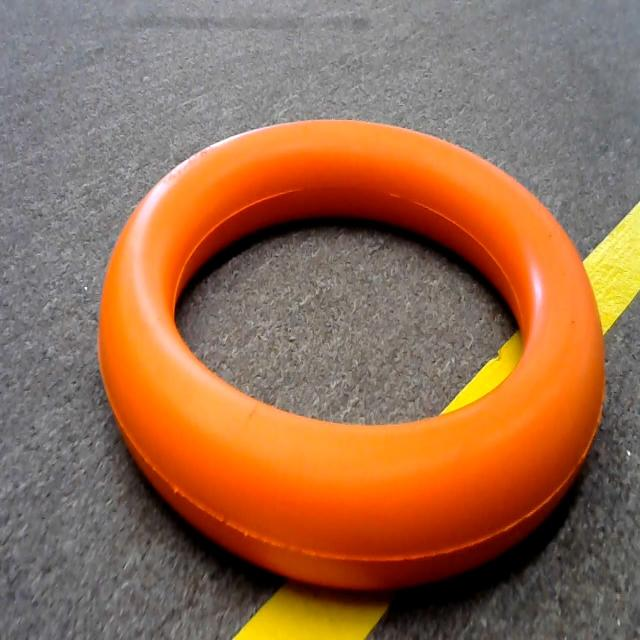note: (86, 101, 614, 602)
